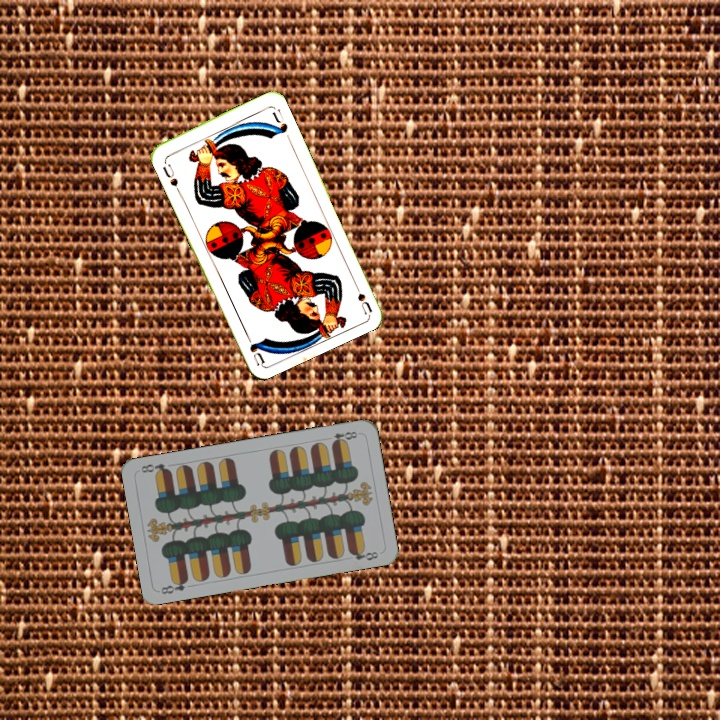E8: (157, 575, 191, 597), (328, 427, 362, 447)
SU: (349, 276, 374, 316), (159, 160, 182, 194)
